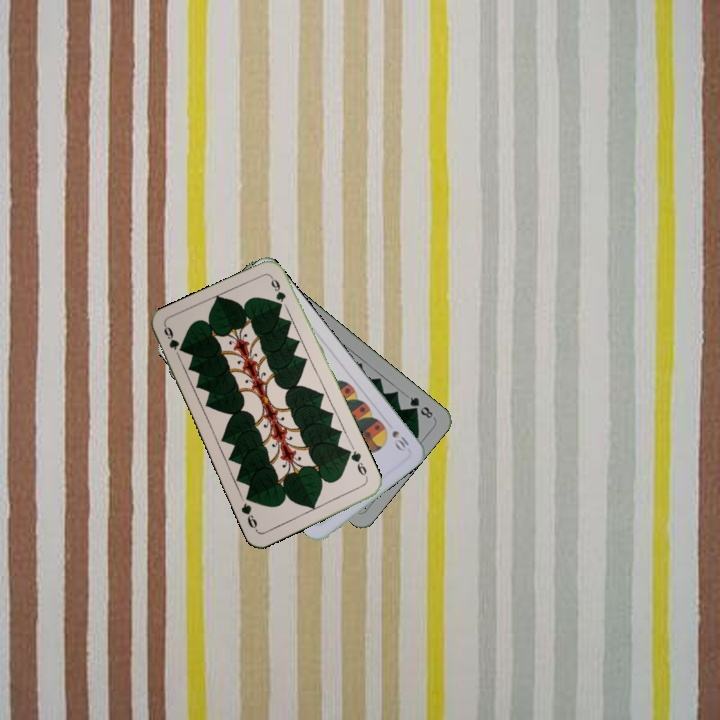G8: (405, 393, 436, 421)
G9: (344, 446, 371, 483), (160, 322, 182, 353)
S10: (388, 426, 412, 454)
